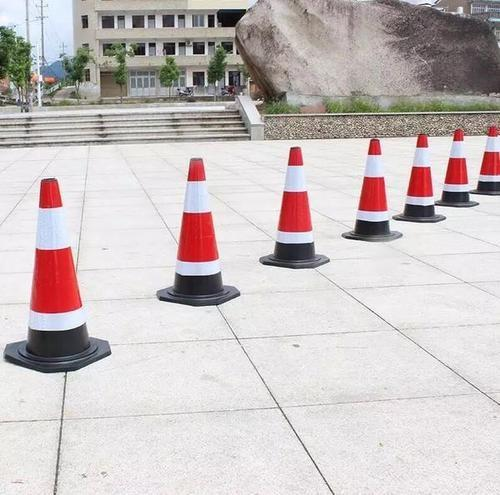cone_barrel: (12, 177, 99, 367), (159, 159, 232, 304), (261, 146, 324, 266), (347, 137, 396, 239), (399, 133, 439, 222), (440, 126, 473, 201), (476, 124, 499, 191)
